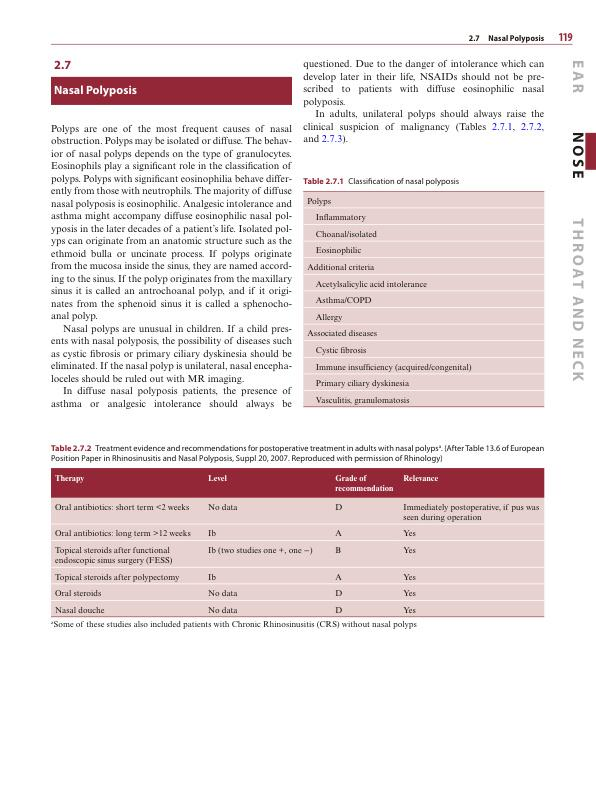caption: (50, 443, 544, 464), (302, 176, 461, 186)
header: (487, 33, 545, 43)
section-heading: (54, 84, 138, 97)
table: (51, 467, 545, 631), (302, 191, 545, 408)
text: (50, 122, 293, 411), (301, 58, 546, 145)
